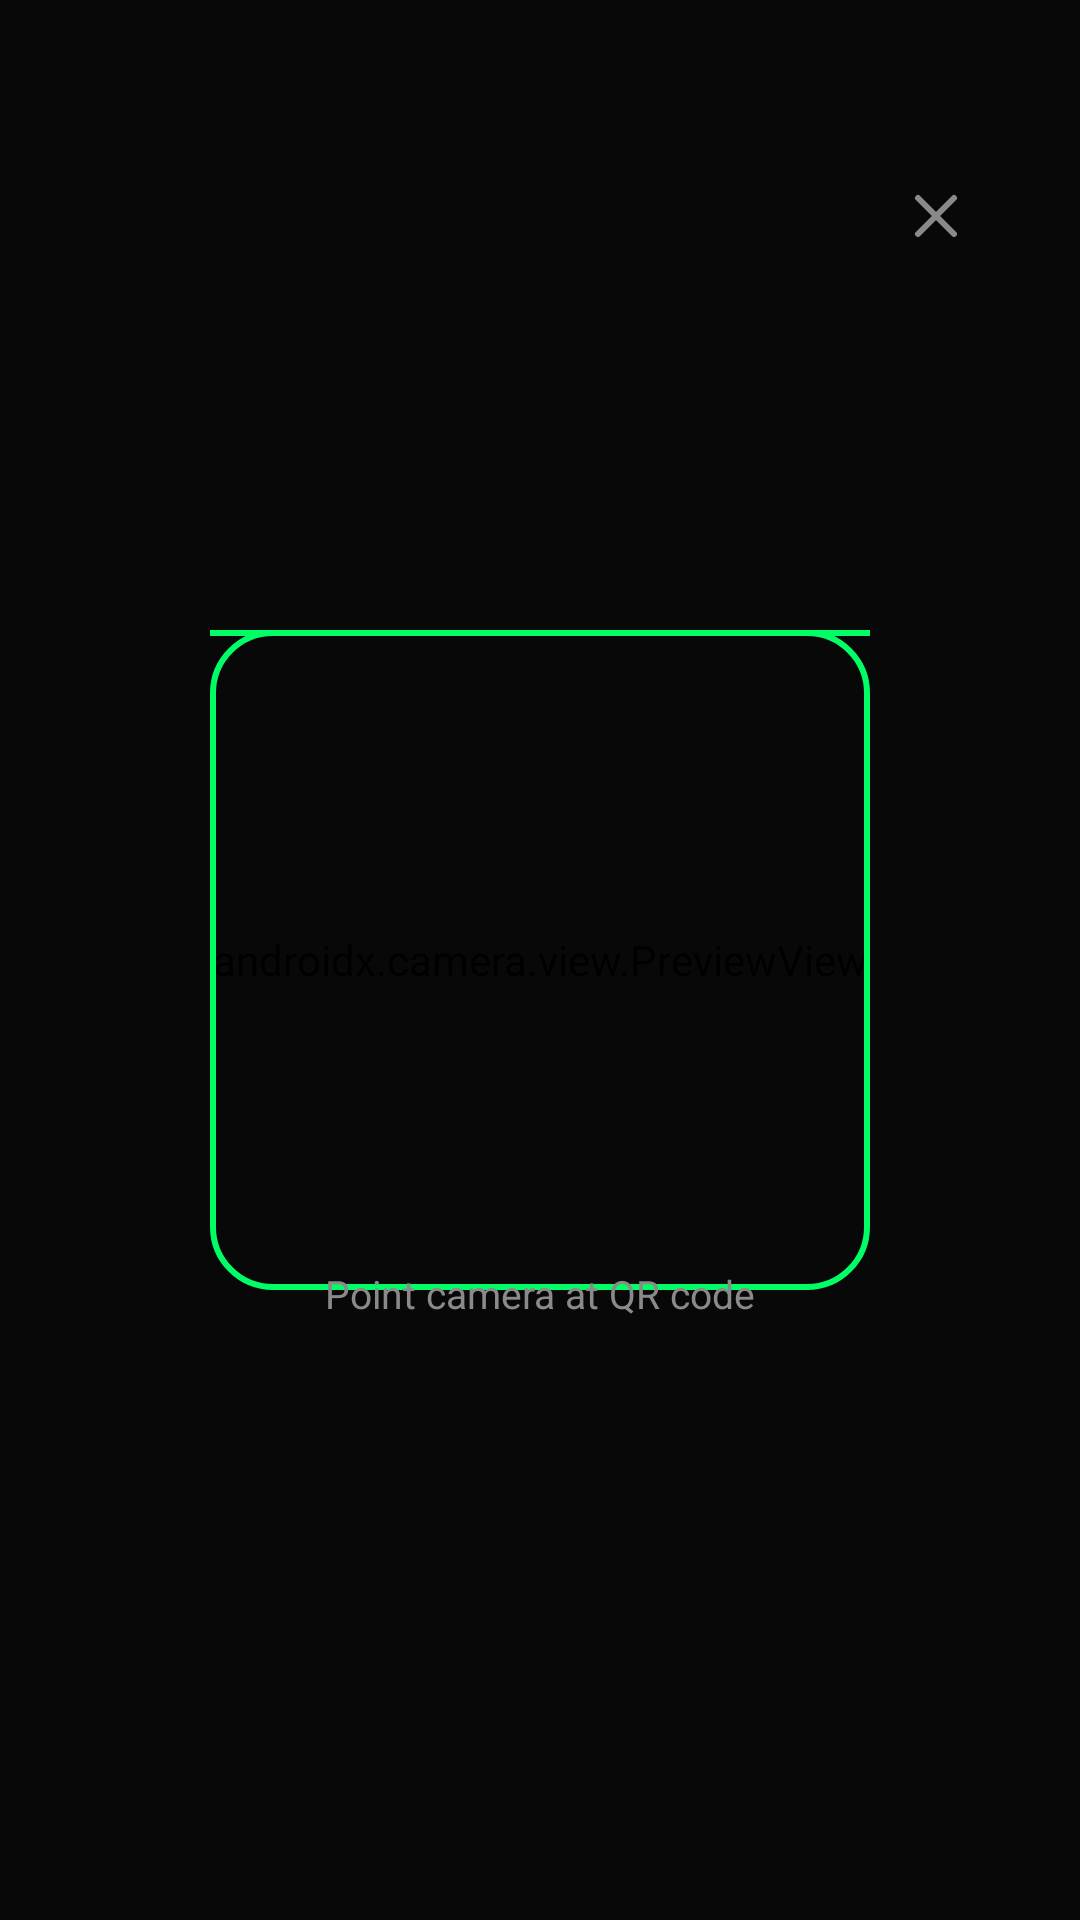

Icon bounding boxes for this 1080x1920 phone screenshot, format rect(x1, y1, x2, y2):
Close scanner: rect(915, 195, 957, 237)
